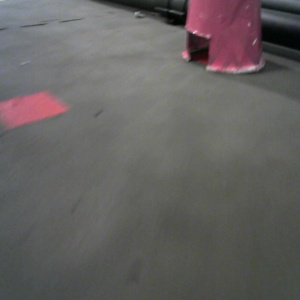right: (181, 1, 267, 73)
